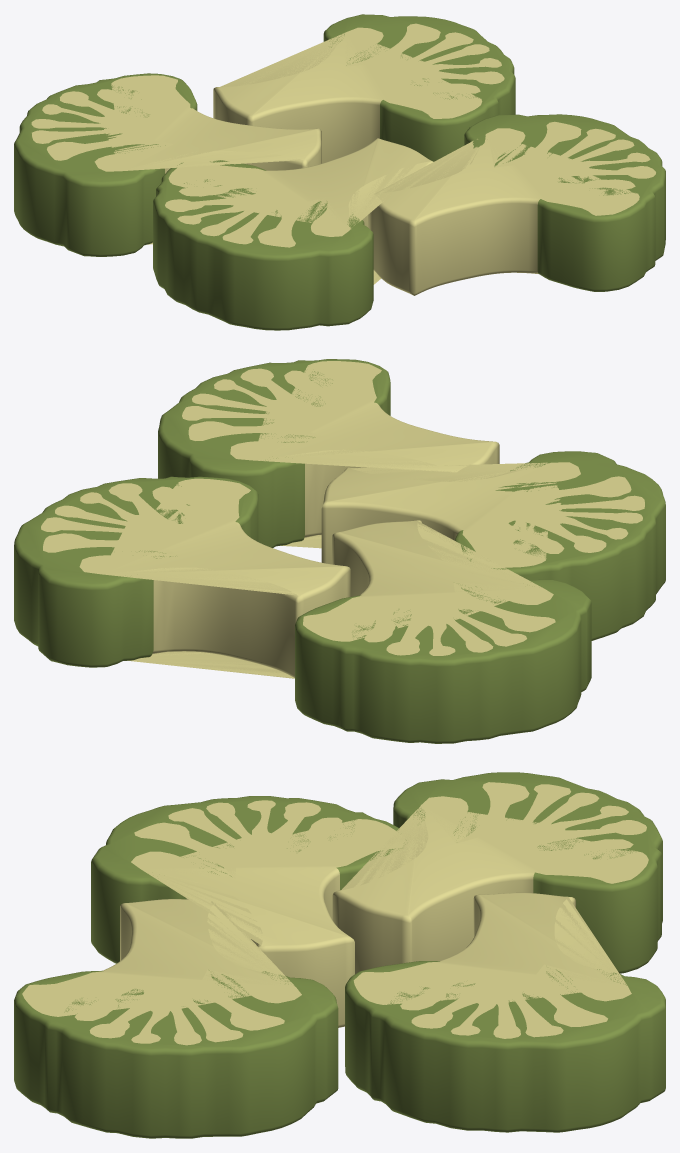
File: Broccoli.fbx
The picture shows the model from 3 angles, top to bottom: view 1: azimuth 30°, elevation 25°; view 2: azimuth 150°, elevation 25°; view 3: azimuth 270°, elevation 25°; orthographic projection. The views are drawn at different scales.
Parts seen in each view (by area): view 1: BezierCurve.001; view 2: BezierCurve.001; view 3: BezierCurve.001.
Boxes of the visible parts, bbox=[...] form: BezierCurve.001: bbox=[14, 14, 665, 330]; BezierCurve.001: bbox=[14, 359, 665, 743]; BezierCurve.001: bbox=[14, 772, 665, 1138].
Size of the model in its own units: 1123 by 167 by 1102.
